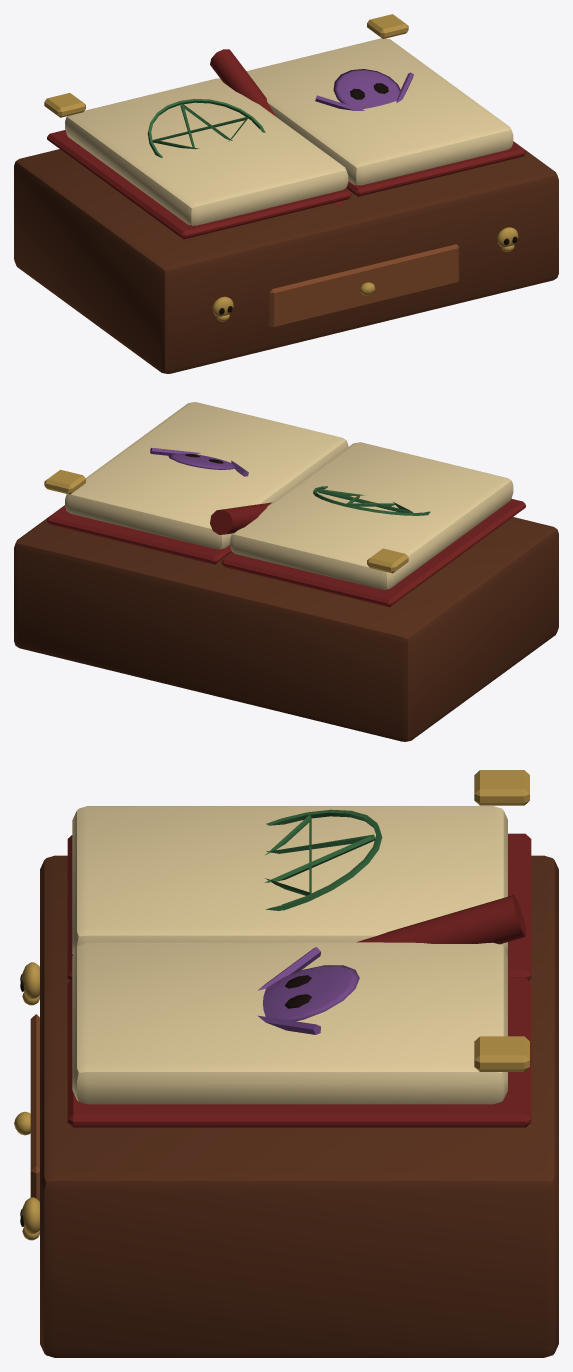
The model's file is PR_SpellBook.fbx.
3 views of the same model, one above another, from view 1: azimuth 30°, elevation 25°; view 2: azimuth 150°, elevation 25°; view 3: azimuth 270°, elevation 25° (orthographic). The views are drawn at different scales.
Visible parts, largest first — view 1: PR_SpellBook_WoodDark, Book_Paper, Book_Leather, PR_SpellBook_Wood, Book_InkPurple, Book_InkGreen, Book_Brass, PR_SpellBook_Brass; view 2: PR_SpellBook_WoodDark, Book_Paper, Book_Leather, Book_Brass, Book_InkGreen, Book_InkPurple; view 3: PR_SpellBook_WoodDark, Book_Paper, Book_Leather, Book_InkPurple, Book_Brass, Book_InkGreen, PR_SpellBook_Wood, PR_SpellBook_Brass.
Boxes of the visible parts, x1,y1,x2,y2 form: PR_SpellBook_WoodDark: (14,141,558,373); Book_Paper: (65,38,513,225); Book_Leather: (47,49,525,239); PR_SpellBook_Wood: (269,244,459,328); Book_InkPurple: (315,69,413,110); Book_InkGreen: (147,99,265,157); Book_Brass: (44,14,408,117); PR_SpellBook_Brass: (212,227,518,321); PR_SpellBook_WoodDark: (14,505,558,741); Book_Paper: (65,402,513,589); Book_Leather: (47,498,525,607); Book_Brass: (44,469,408,573); Book_InkGreen: (313,486,430,515); Book_InkPurple: (150,448,248,476); PR_SpellBook_WoodDark: (40,855,558,1357); Book_Paper: (72,806,507,1104); Book_Leather: (67,833,531,1127); Book_InkPurple: (258,947,359,1034); Book_Brass: (474,770,529,1071); Book_InkGreen: (264,809,382,910); PR_SpellBook_Wood: (30,1014,39,1201); PR_SpellBook_Brass: (14,962,39,1240).
Size of the model in its own units: 0.42 by 0.18 by 0.294.
